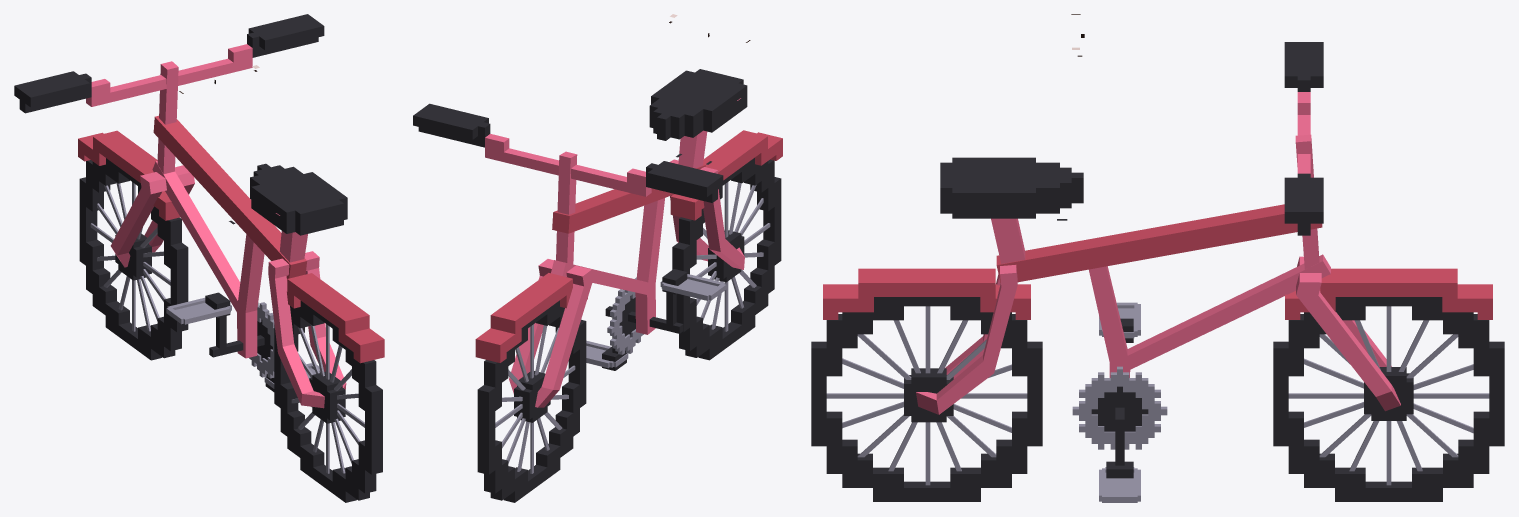
The model's file is njhnj.glb.
The picture shows the model from 3 angles, left to right: view 1: azimuth 30°, elevation 25°; view 2: azimuth 150°, elevation 25°; view 3: azimuth 270°, elevation 25°; orthographic projection. The views are drawn at different scales.
Visible parts, largest first — view 1: d.4143, d.4145, d.4200, d.5541, d.5409, d.3735, d.3805, d.5533, d.5540, d.5391, d.5408, d.4213 (+26 smaller); view 2: d.4143, d.4145, d.4200, d.3735, d.5409, d.5540, d.3920, d.5533, d.5408, d.3892, d.5391, d.4213 (+26 smaller); view 3: d.4314, d.4293, d.5755, d.3971, d.4200, d.5736, d.5746, d.6049, d.5541, d.3946, d.3941, d.4301 (+15 smaller).
Boxes of the visible parts, left/top/right/bottom form: d.4143: left=274, top=301, right=371, bottom=502; d.4145: left=79, top=158, right=176, bottom=359; d.4200: left=250, top=163, right=347, bottom=213; d.5541: left=155, top=115, right=306, bottom=264; d.5409: left=153, top=117, right=290, bottom=278; d.3735: left=152, top=161, right=253, bottom=357; d.3805: left=156, top=161, right=240, bottom=300; d.5533: left=288, top=273, right=369, bottom=321; d.5540: left=93, top=130, right=157, bottom=174; d.5391: left=287, top=279, right=360, bottom=362; d.5408: left=78, top=137, right=165, bottom=220; d.4213: left=247, top=14, right=323, bottom=40; d.4143: left=683, top=157, right=781, bottom=359; d.4145: left=489, top=300, right=586, bottom=502; d.4200: left=650, top=69, right=746, bottom=119; d.3735: left=562, top=198, right=664, bottom=334; d.5409: left=568, top=165, right=705, bottom=233; d.5540: left=491, top=273, right=572, bottom=320; d.3920: left=541, top=283, right=583, bottom=389; d.5533: left=703, top=130, right=767, bottom=171; d.5408: left=500, top=279, right=587, bottom=362; d.3892: left=556, top=155, right=570, bottom=262; d.5391: left=695, top=136, right=782, bottom=220; d.4213: left=413, top=103, right=489, bottom=129; d.4314: left=1273, top=297, right=1504, bottom=501; d.4293: left=811, top=297, right=1042, bottom=501; d.5755: left=996, top=214, right=1322, bottom=282; d.3971: left=1089, top=261, right=1330, bottom=377; d.4200: left=940, top=157, right=1083, bottom=192; d.5736: left=823, top=283, right=1030, bottom=319; d.5746: left=1285, top=283, right=1492, bottom=319; d.6049: left=1072, top=369, right=1167, bottom=449; d.5541: left=996, top=204, right=1284, bottom=265; d.3946: left=1296, top=282, right=1391, bottom=396; d.3941: left=936, top=273, right=1017, bottom=414; d.4301: left=952, top=193, right=1035, bottom=218.
Bounding box in the file's own units: 4.37 × 5.33 × 7.54.
5 materials, 1 textured.
